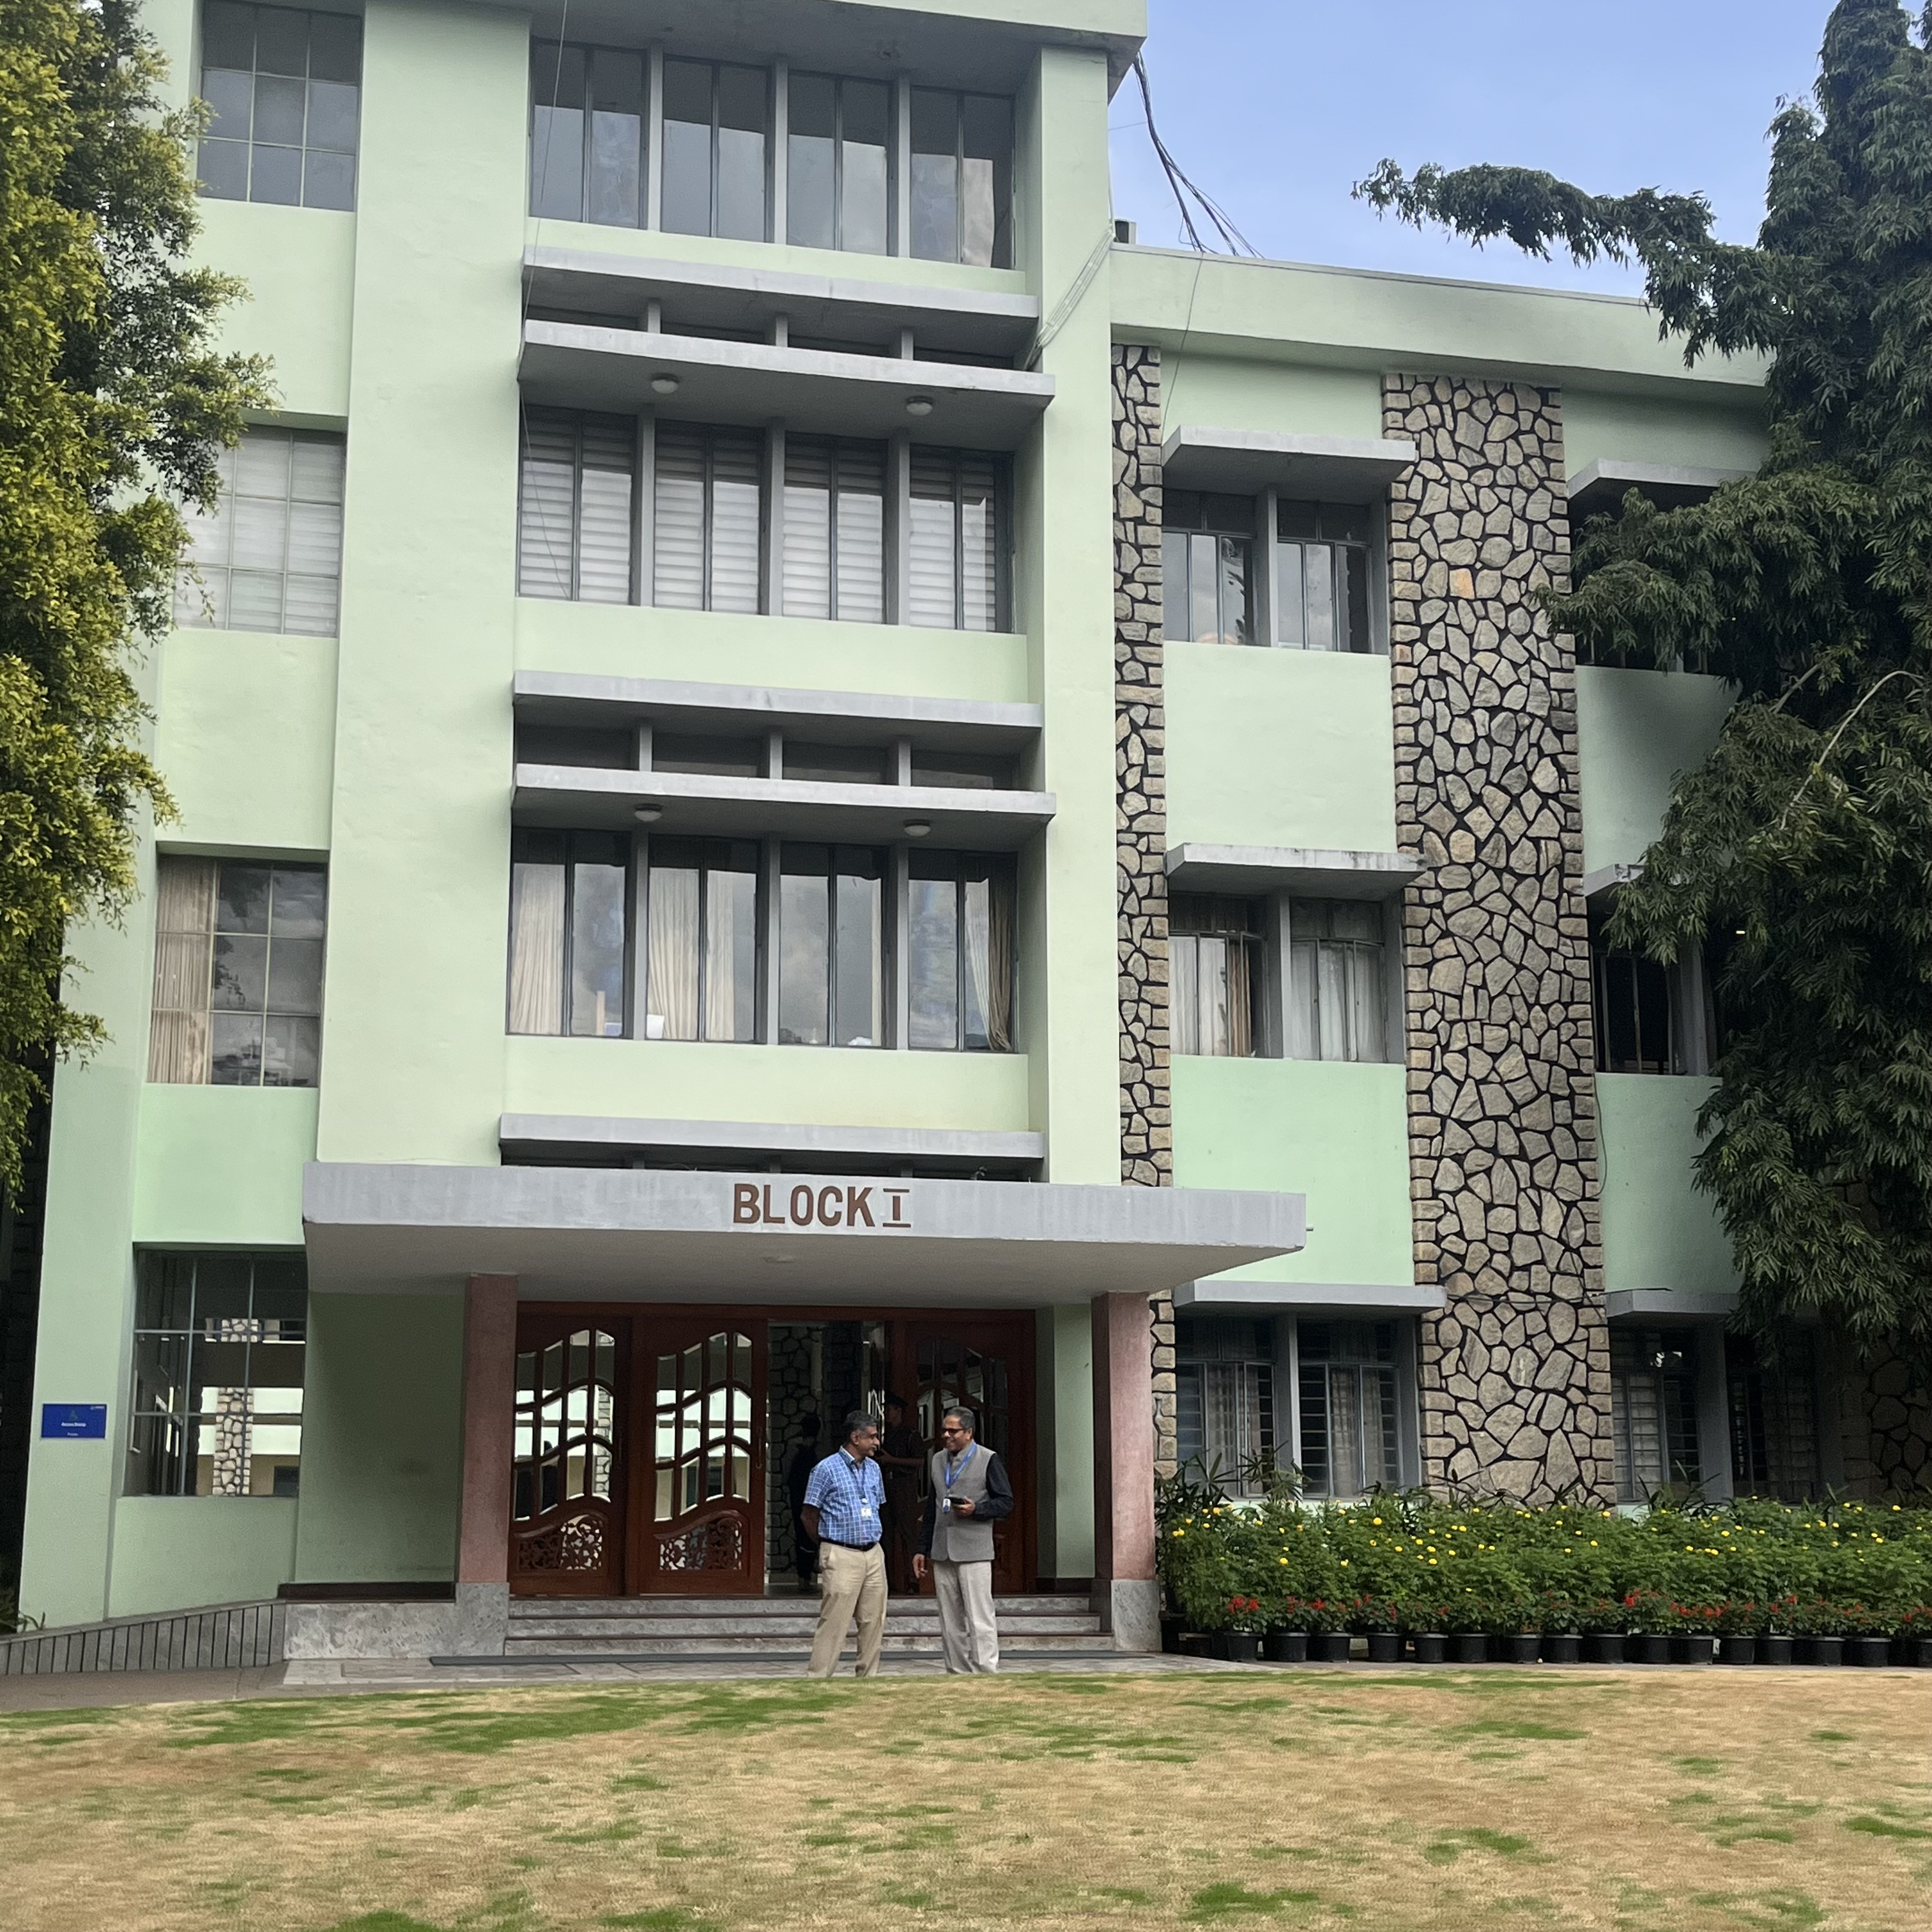Block 1: (147, 34, 1748, 1629)
